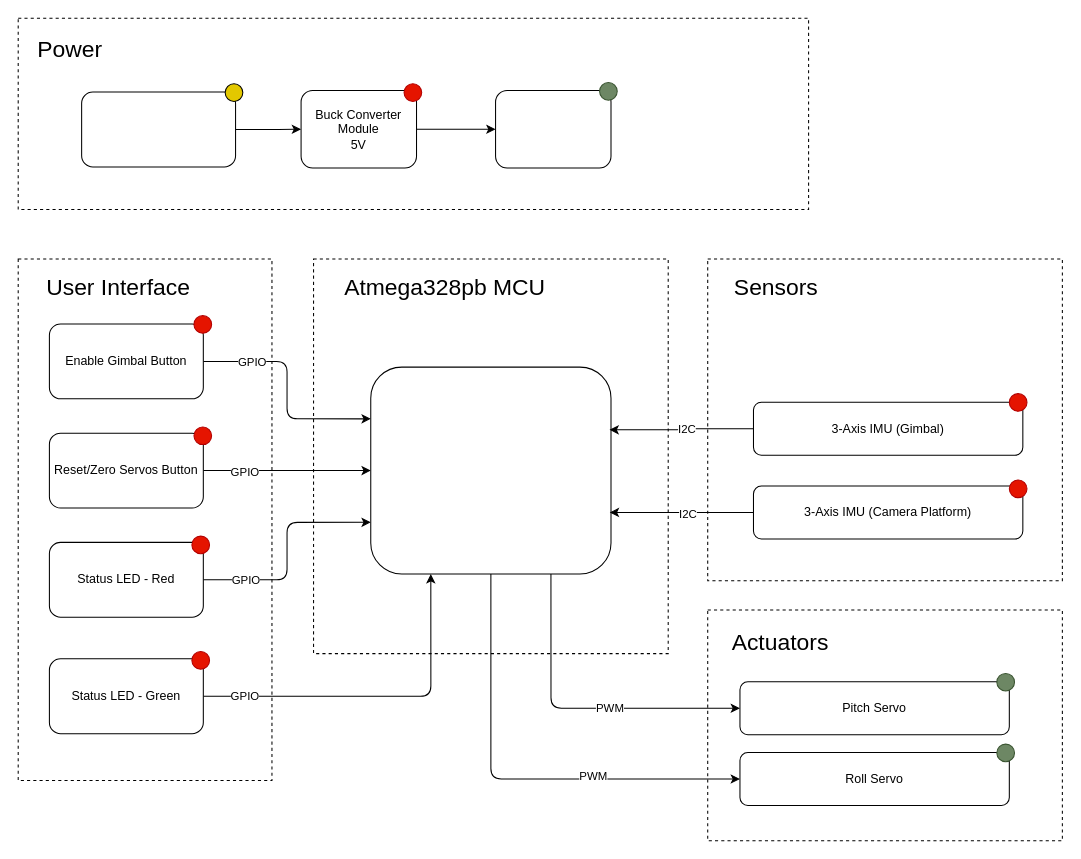
The diagram is 1081 pixels wide and 859 high, and some of its shapes have lost their labels. The box of each missing label's shape, as (x1, y1, x2, y2) in pixels:
Atmega LDO 3.3V: (495, 89, 611, 168)
Microcontroller (Atmega328PB): (370, 366, 611, 574)
USB-C PD Breakout Module 12V: (81, 91, 236, 167)
